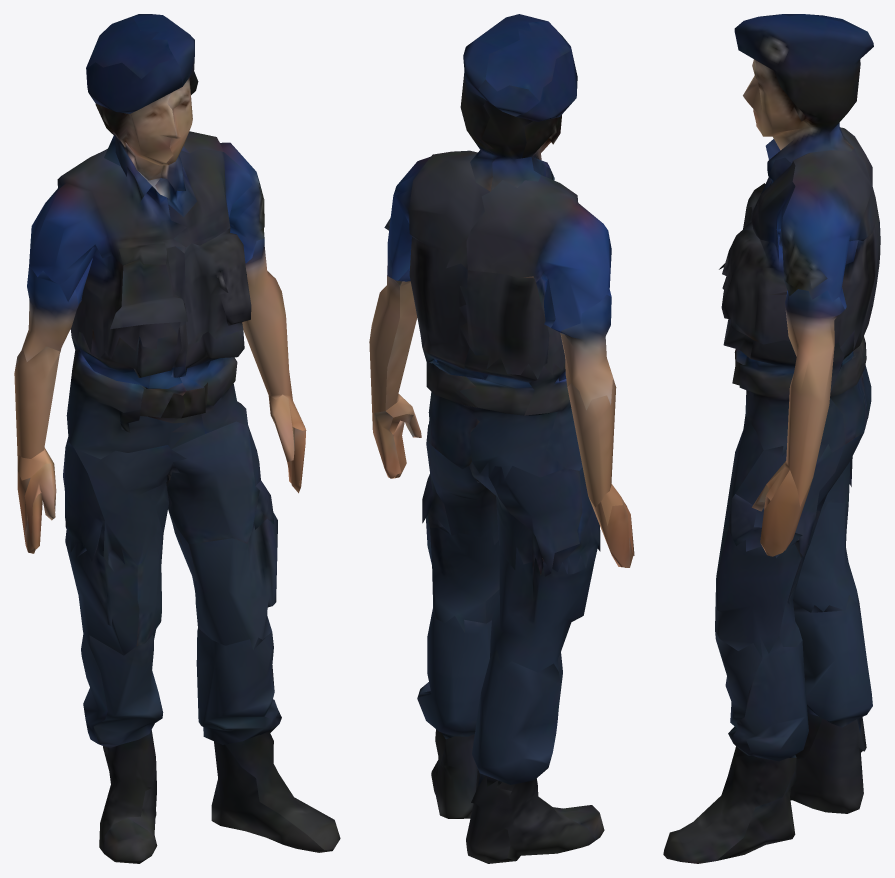
File: polwan_swiss_idle_lod2.glb
3 views of the same model, side by side, from view 1: azimuth 30°, elevation 25°; view 2: azimuth 150°, elevation 25°; view 3: azimuth 270°, elevation 25° (orthographic). The views are drawn at different scales.
Visible parts, largest first — view 1: tripo_node_5b124454-1989-4296-9f60-b5f1fcd26173; view 2: tripo_node_5b124454-1989-4296-9f60-b5f1fcd26173; view 3: tripo_node_5b124454-1989-4296-9f60-b5f1fcd26173.
Boxes of the visible parts, x1,y1,x2,y2 form: tripo_node_5b124454-1989-4296-9f60-b5f1fcd26173: (14, 14, 340, 863); tripo_node_5b124454-1989-4296-9f60-b5f1fcd26173: (369, 14, 634, 863); tripo_node_5b124454-1989-4296-9f60-b5f1fcd26173: (663, 14, 880, 863).
Size of the model in its own units: 33.58 by 98.16 by 24.47.
1 material, 1 textured.
